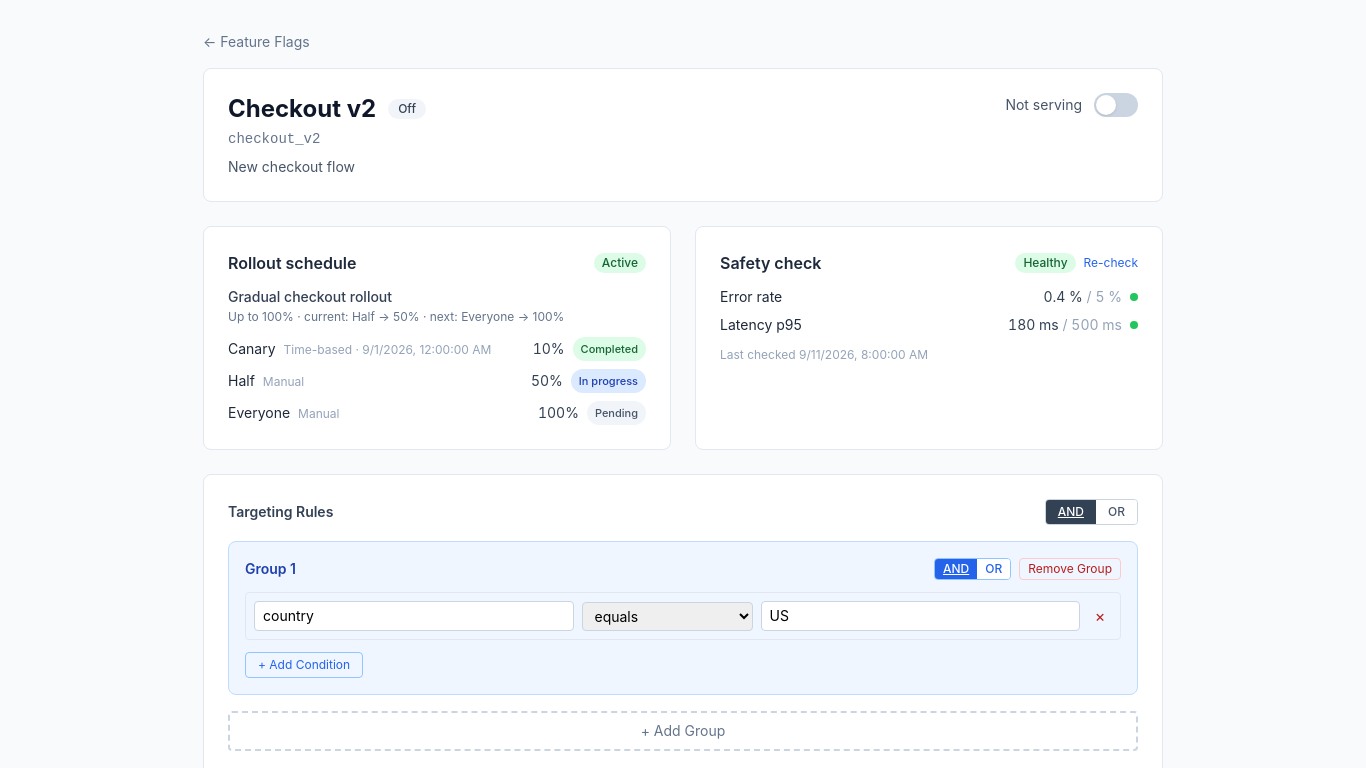
Scenario: FeatureFlagDetailPage › reverts the switch and shows the error when enabling fails
The image size is (1366, 768).
Click the switch with test id "flag-toggle" at [1116, 105], box [1094,93,1138,117]
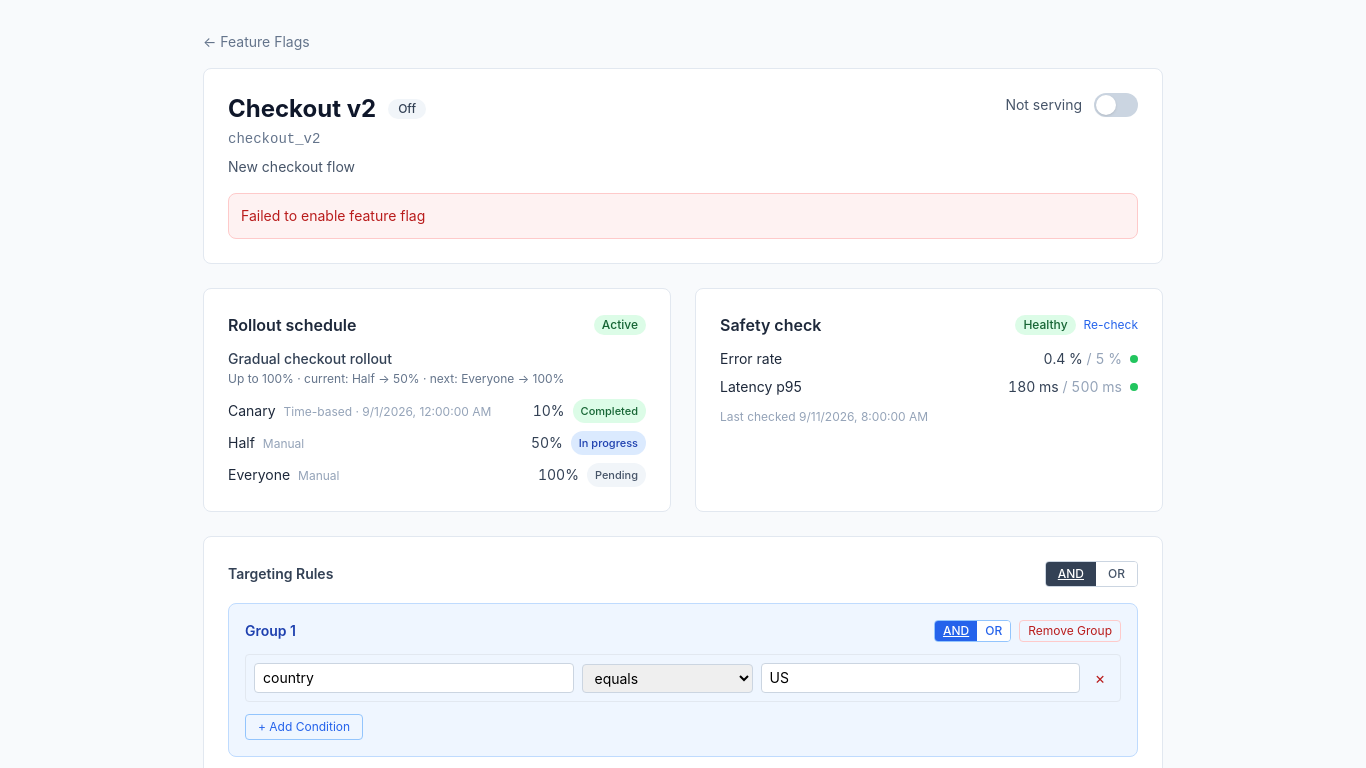
expect the text with test id "flag-status" reads "Off": met, box [398,101,416,116]
expect the message with test id "flag-toggle-error" reads "Failed to enable feature flag": met, box [241,207,425,224]
